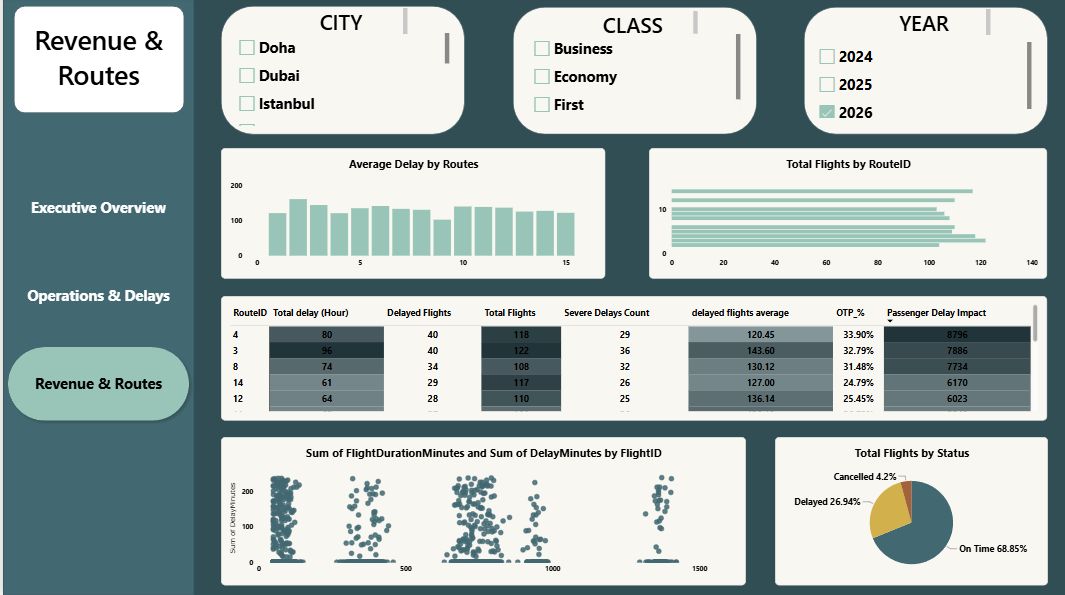

The page's visual inventory and layout, read from the dashboard file:
{"tool":"powerbi","page":{"name":"Revenue & Routes","canvas":[1920,1080],"ordinal":2},"visuals":[{"type":"shape","box":[0,0,345.5,1080.7],"z":0},{"type":"shape","box":[1466.1,10.5,440,230],"z":0,"group":"g2"},{"type":"shape","box":[394.2,16.4,440,232],"z":0,"group":"g1"},{"type":"shape","box":[920.9,17.6,440.4,230],"z":0,"group":"g3"},{"type":"shape","box":[19.7,15.8,307.4,193.1],"z":1000},{"type":"pageNavigator","box":[0,305,345.5,469.7],"z":2000},{"type":"columnChart","title":"Average Delay Duration by Route (Mins)","fields":{"Category":["Routes.RouteID"],"Y":["_measures .delayed flights average"]},"box":[394.2,272,693.7,236.5],"z":3000},{"type":"barChart","title":"Flight Volume by Route Corridor","fields":{"Y":["_measures .Total Flights"],"Category":["Routes.RouteID"]},"box":[1166.7,272,719.3,236.5],"z":4000},{"type":"slicer","fields":{"Values":["Date_Table.Year"]},"box":[1493,61.8,391.1,148.5],"z":5000,"group":"g2"},{"type":"slicer","fields":{"Values":["Airports.City"]},"box":[419.7,64.6,387,167.8],"z":5000,"group":"g1"},{"type":"slicer","fields":{"Values":["Services.CabinClass"]},"box":[950.9,67,379.7,155.3],"z":5000,"group":"g3"},{"type":"scatterChart","title":"Delay vs Flight Duration Correlation","fields":{"Y":["Sum(Flights_Raw.DelayMinutes)"],"Category":["Flights_Raw.FlightID"],"X":["Sum(Flights_Raw.FlightDurationMinutes)"]},"box":[394.2,794.2,948,268],"z":5000},{"type":"pieChart","title":"Route Flight Completion Status","fields":{"Category":["Flights_Raw.Status"],"Y":["_measures .Total Flights"]},"box":[1393.4,794.2,492.7,268],"z":6000},{"type":"pivotTable","fields":{"Rows":["Routes.RouteID"],"Values":["_measures .Total delay (Hour)","_measures .Delayed Flights","_measures .Total Flights","_measures .Severe Delays Count","_measures .delayed flights average","_measures .OTP_%","_measures .Passenger Delay Impact"]},"box":[394.2,540,1491.9,224.7],"z":7000},{"type":"group","id":"g1","title":"Group 1","box":[394.2,16.4,441.5,232.6],"z":8000},{"type":"group","id":"g2","title":"Group 1","box":[1466.1,10.5,440,230],"z":9000},{"type":"group","id":"g3","title":"Group 1","box":[920.9,17.6,440.4,230],"z":10000},{"type":"textbox","box":[1570.2,14,231.8,47.8],"z":10001,"group":"g2"},{"type":"textbox","box":[498.3,20,231.8,48.2],"z":10001,"group":"g1"},{"type":"textbox","box":[1028,25.6,227.4,44.6],"z":10001,"group":"g3"},{"type":"textbox","box":[31.5,43.4,283.8,149.8],"z":11000}]}

Visuals, with their boxes in screenshot pixels (x1, y1, x2, y2), scaled from the page's 1920x1080 canvas onto the 1065x595 screenshot:
shape: (0,0,192,594)
shape: (813,6,1057,132)
shape: (219,9,463,137)
shape: (511,10,755,136)
shape: (11,9,181,115)
pageNavigator: (0,168,192,427)
"Average Delay Duration by Route (Mins)" columnChart: (219,150,603,280)
"Flight Volume by Route Corridor" barChart: (647,150,1046,280)
slicer - Date_Table.Year: (828,34,1045,116)
slicer - Airports.City: (233,36,447,128)
slicer - Services.CabinClass: (527,37,738,122)
"Delay vs Flight Duration Correlation" scatterChart: (219,438,745,585)
"Route Flight Completion Status" pieChart: (773,438,1046,585)
pivotTable - Routes.RouteID x _measures .Total delay (Hour): (219,298,1046,421)
"Group 1" group: (219,9,464,137)
"Group 1" group: (813,6,1057,132)
"Group 1" group: (511,10,755,136)
textbox: (871,8,1000,34)
textbox: (276,11,405,38)
textbox: (570,14,696,39)
textbox: (17,24,175,106)
